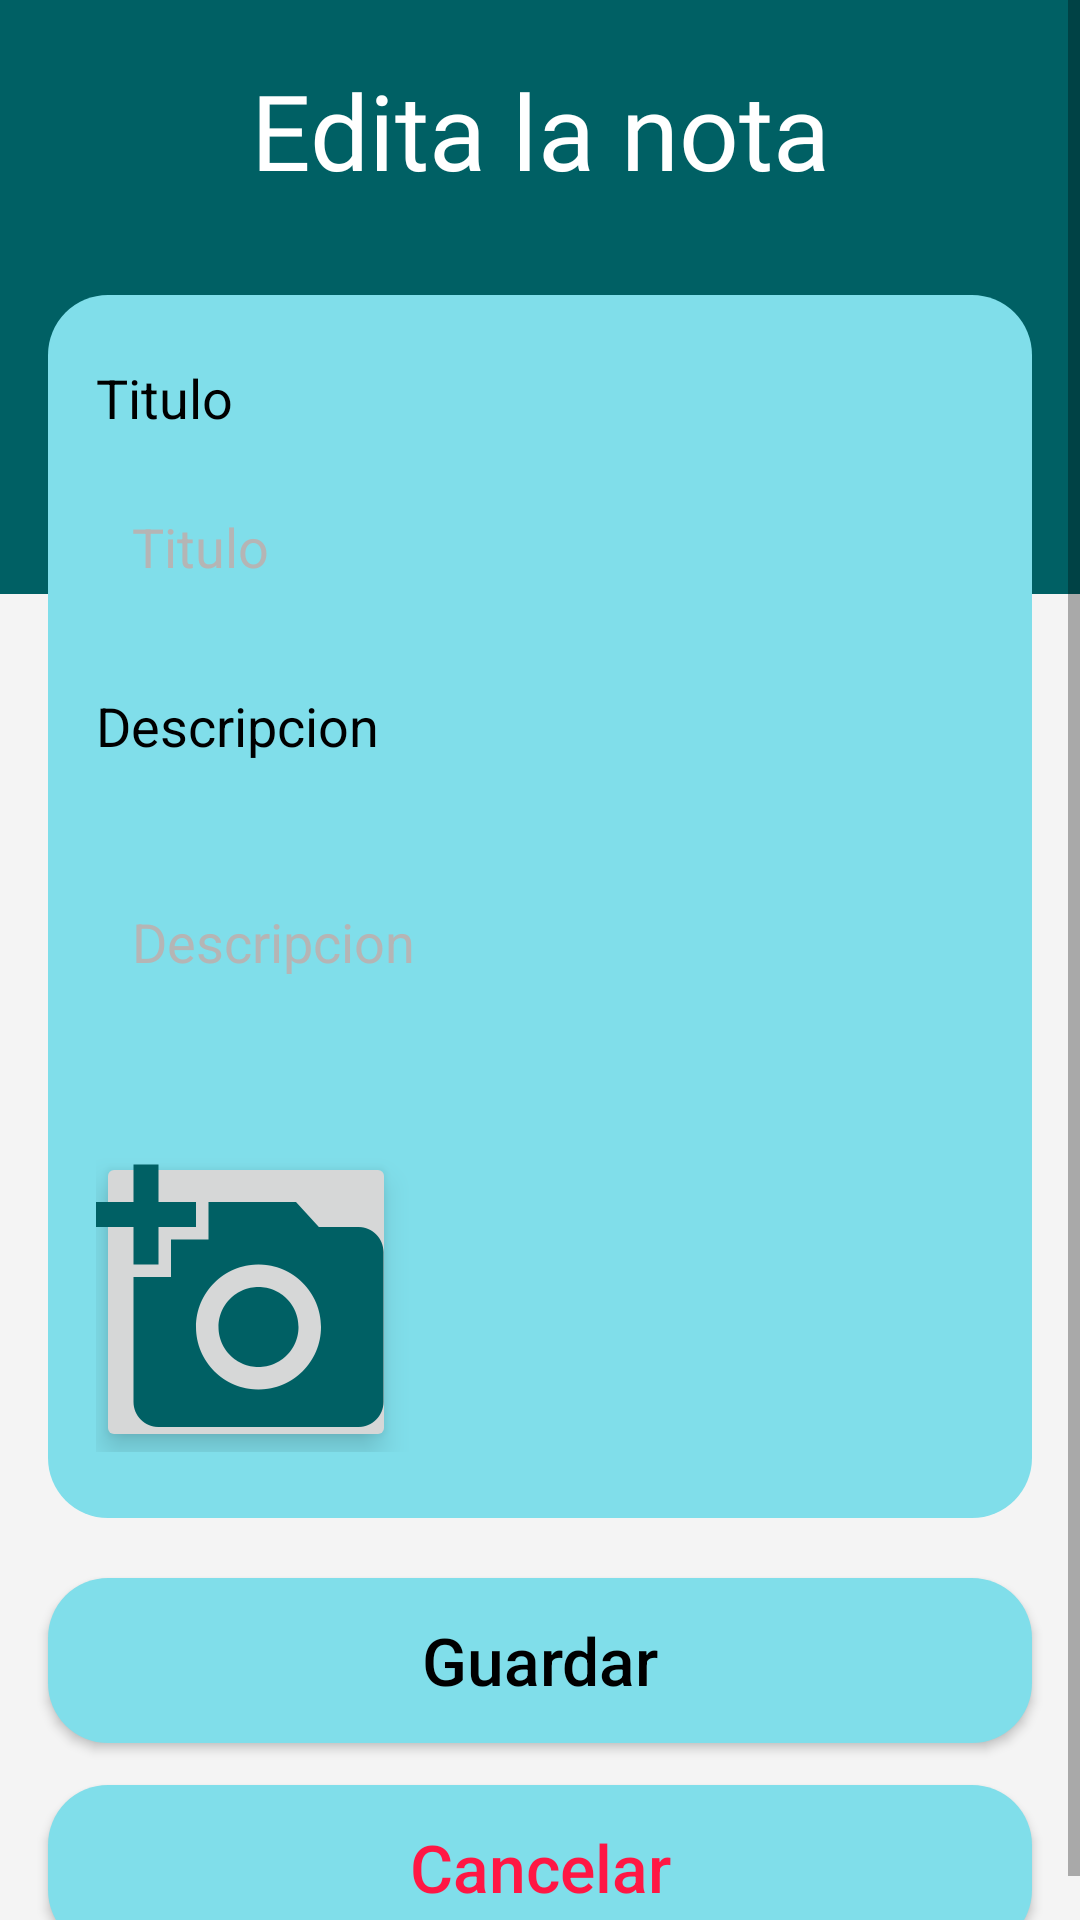

Icon click points for this 1080px×1920px phone screenshot, format (x,y):
add photo: (240,1304)
